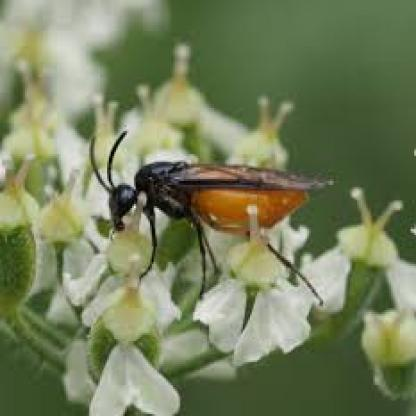sawfly: (87, 129, 335, 307)
